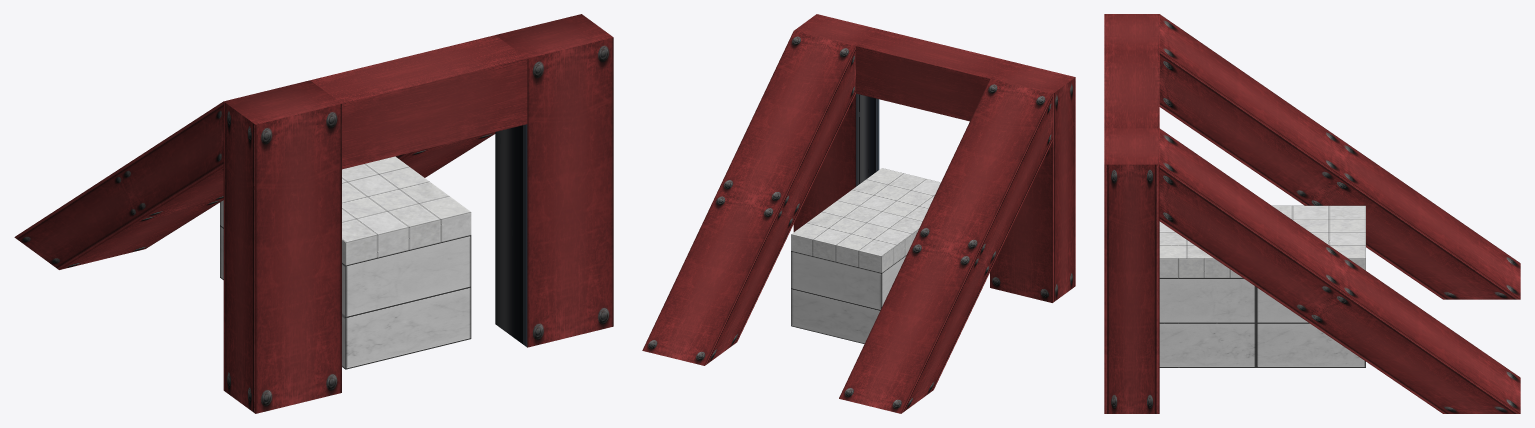
File: Building4.fbx
The picture shows the model from 3 angles, left to right: view 1: azimuth 30°, elevation 25°; view 2: azimuth 150°, elevation 25°; view 3: azimuth 270°, elevation 25°; orthographic projection. The views are drawn at different scales.
Parts seen in each view (by area): view 1: ChinaBuildingModulate05; view 2: ChinaBuildingModulate05; view 3: ChinaBuildingModulate05.
Boxes of the visible parts, x1,y1,x2,y2 form: ChinaBuildingModulate05: [14, 14, 613, 413]; ChinaBuildingModulate05: [642, 14, 1075, 413]; ChinaBuildingModulate05: [1104, 14, 1520, 413].
Size of the model in its own units: 1059 by 826 by 1236.
